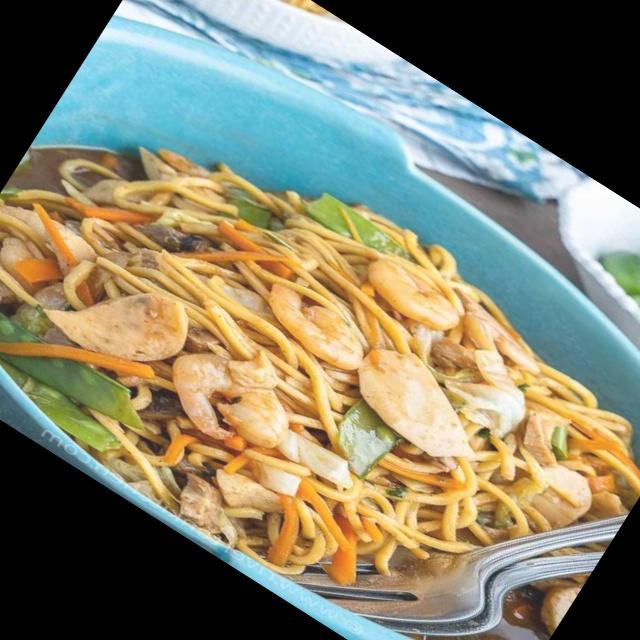pancit bihon: (2, 165, 639, 560)
